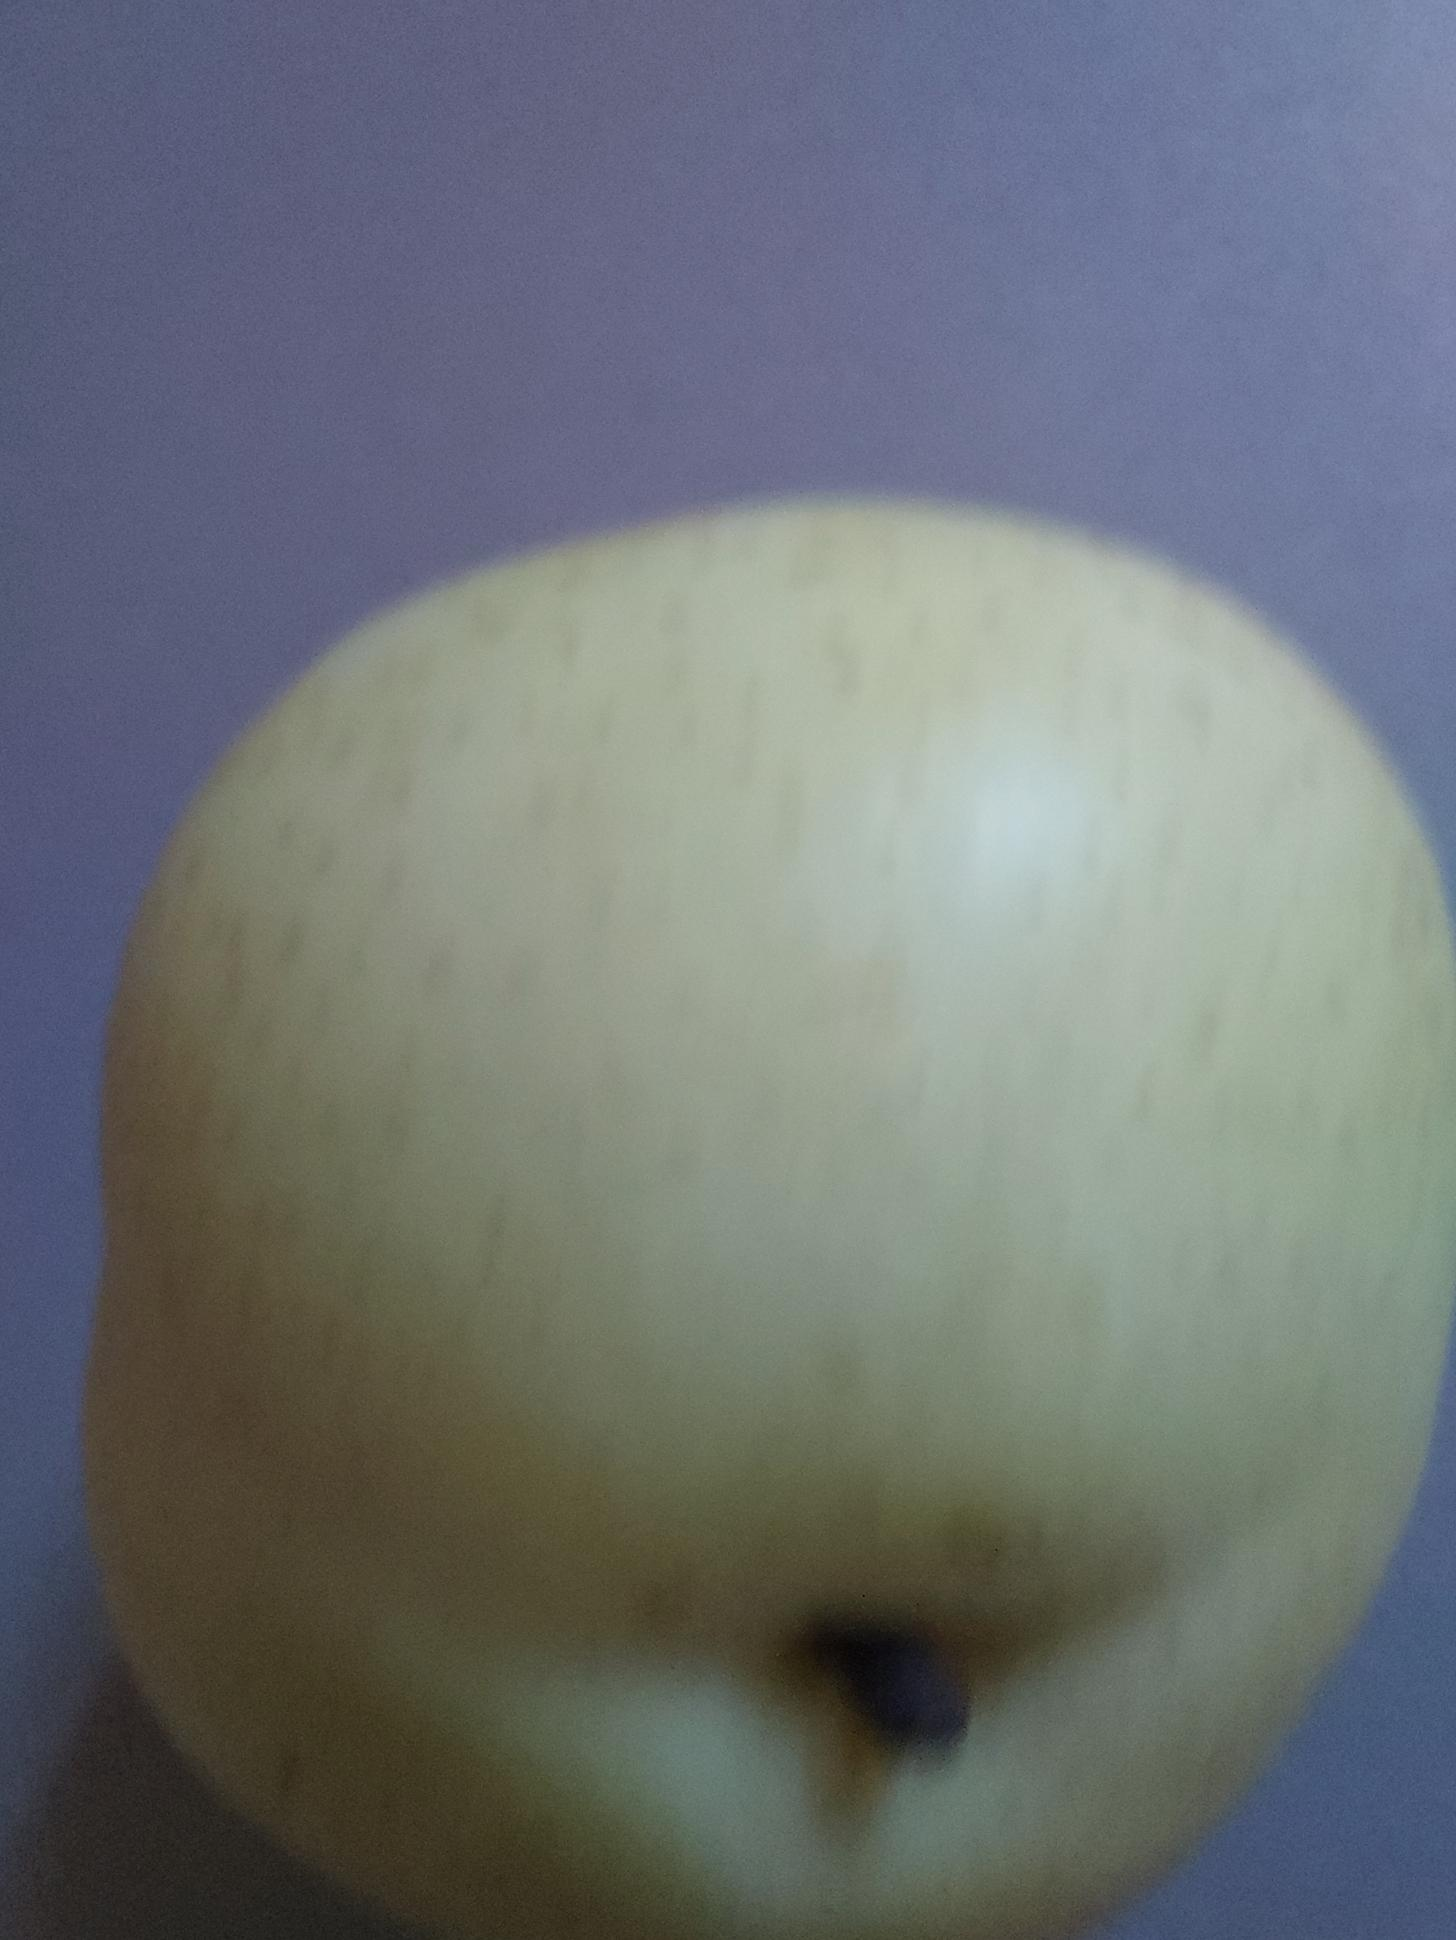Good Pear: (57, 500, 1456, 1940)
